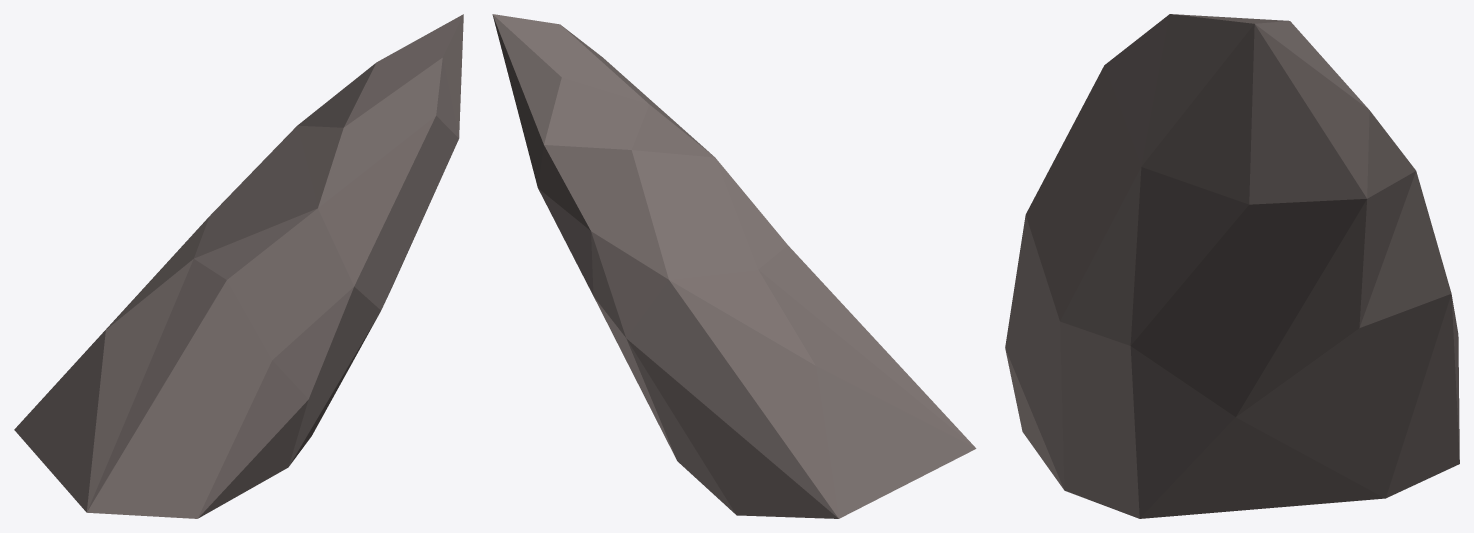
The model's file is Rock_Sharp_m_13.fbx.
3 renders of one model, left to right at view 1: azimuth 30°, elevation 25°; view 2: azimuth 150°, elevation 25°; view 3: azimuth 270°, elevation 25°, orthographic. The views are drawn at different scales.
Parts seen in each view (by area): view 1: Rock_Sharp_m_13; view 2: Rock_Sharp_m_13; view 3: Rock_Sharp_m_13.
Part boxes in pixels (x1,y1,x2,y2): Rock_Sharp_m_13: (14, 14, 463, 518); Rock_Sharp_m_13: (492, 14, 976, 518); Rock_Sharp_m_13: (1005, 14, 1459, 518).
Bounding box in the file's own units: 1.9 × 1.62 × 0.9405.
